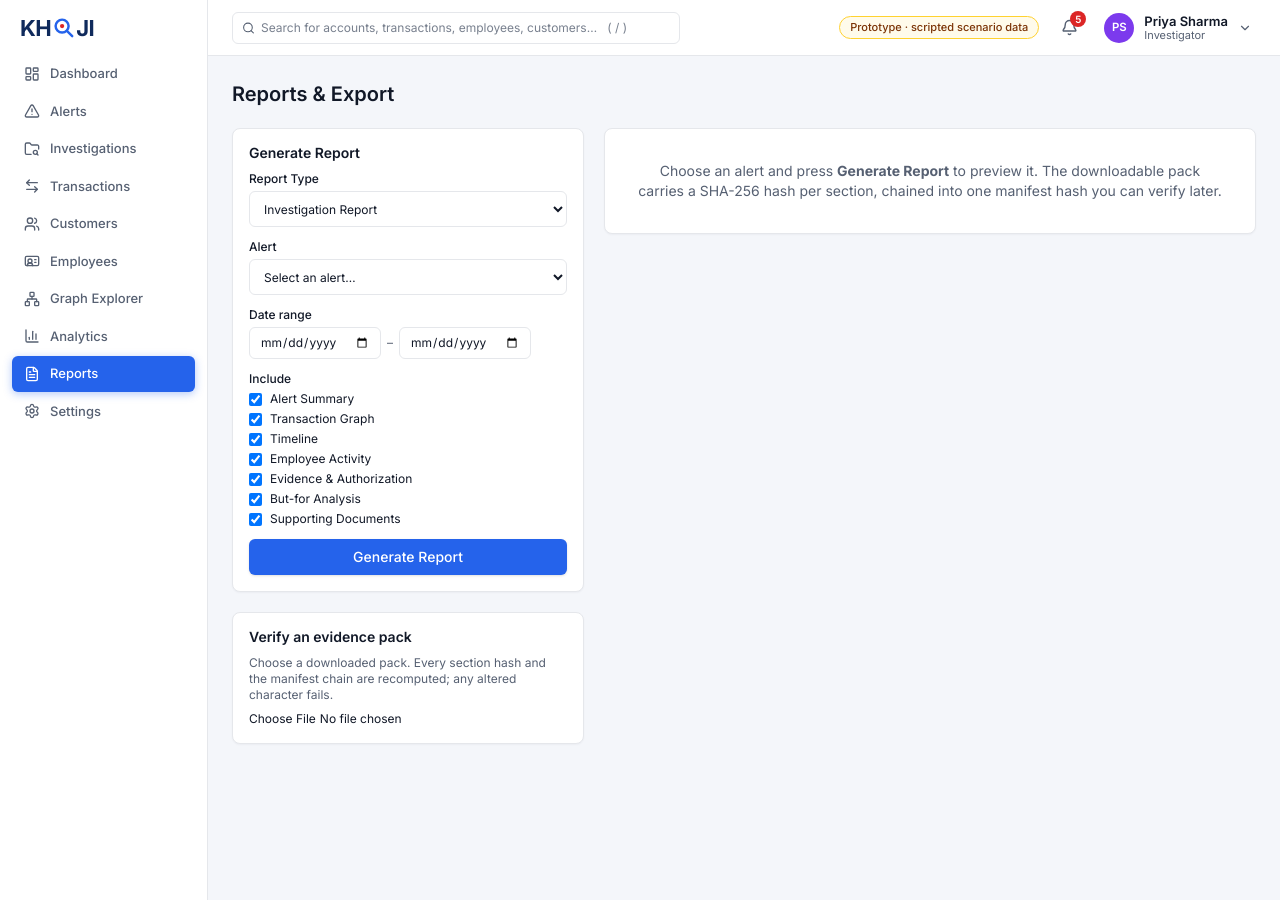
it: Reports page › requires an alert before generating
Step 1. Click the button "Generate Report" → (408, 557), box [249,539,567,575]
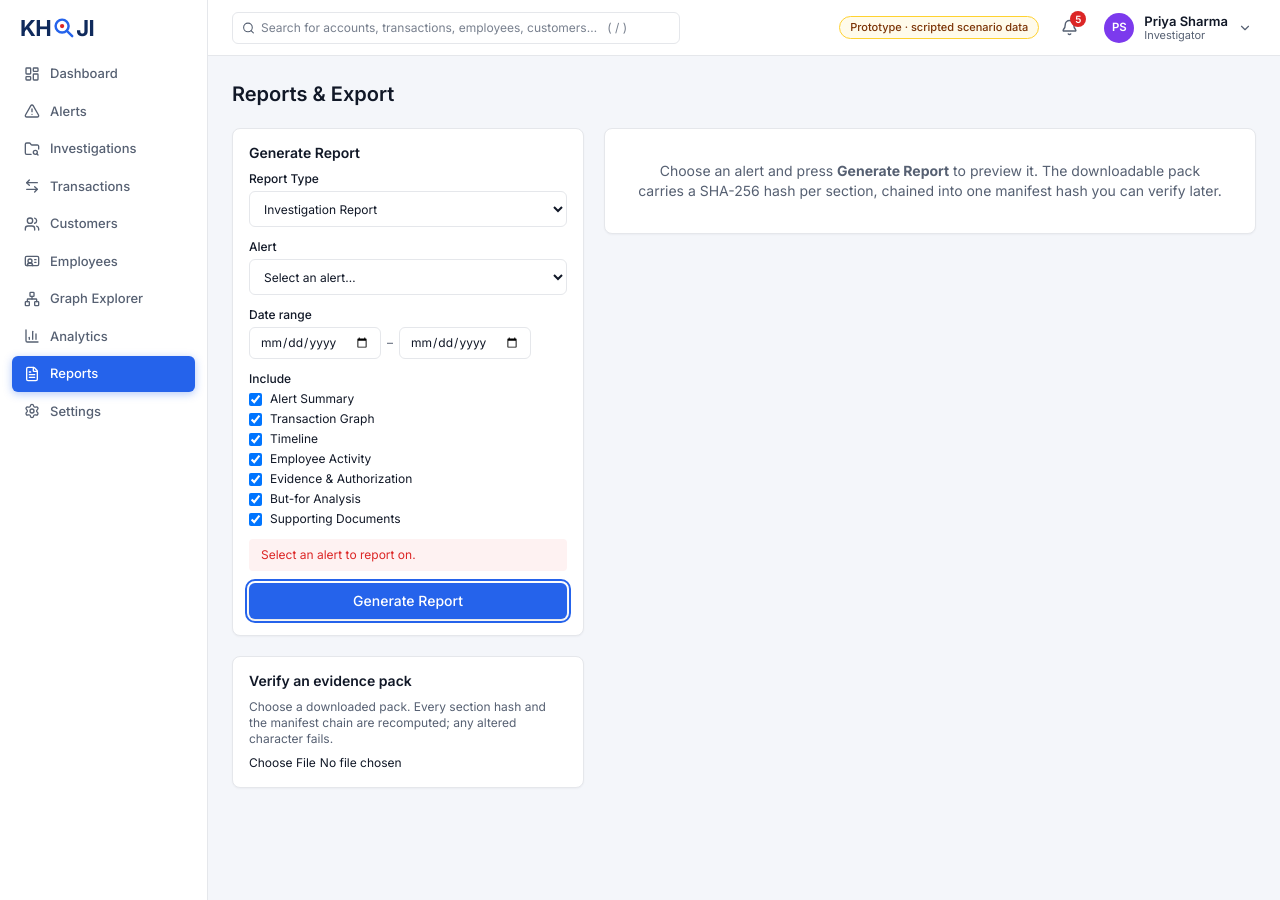
Expected: the message shows "Select an alert", [261,547,416,562]
